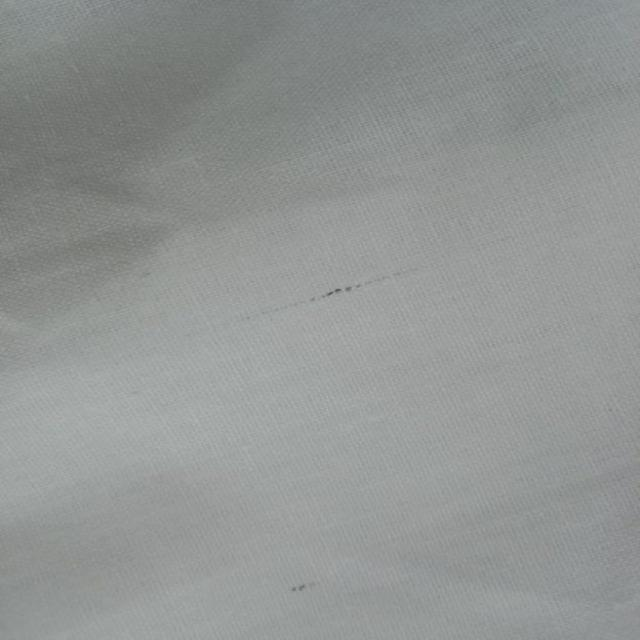contamination: (208, 264, 416, 330), (280, 576, 333, 596)
